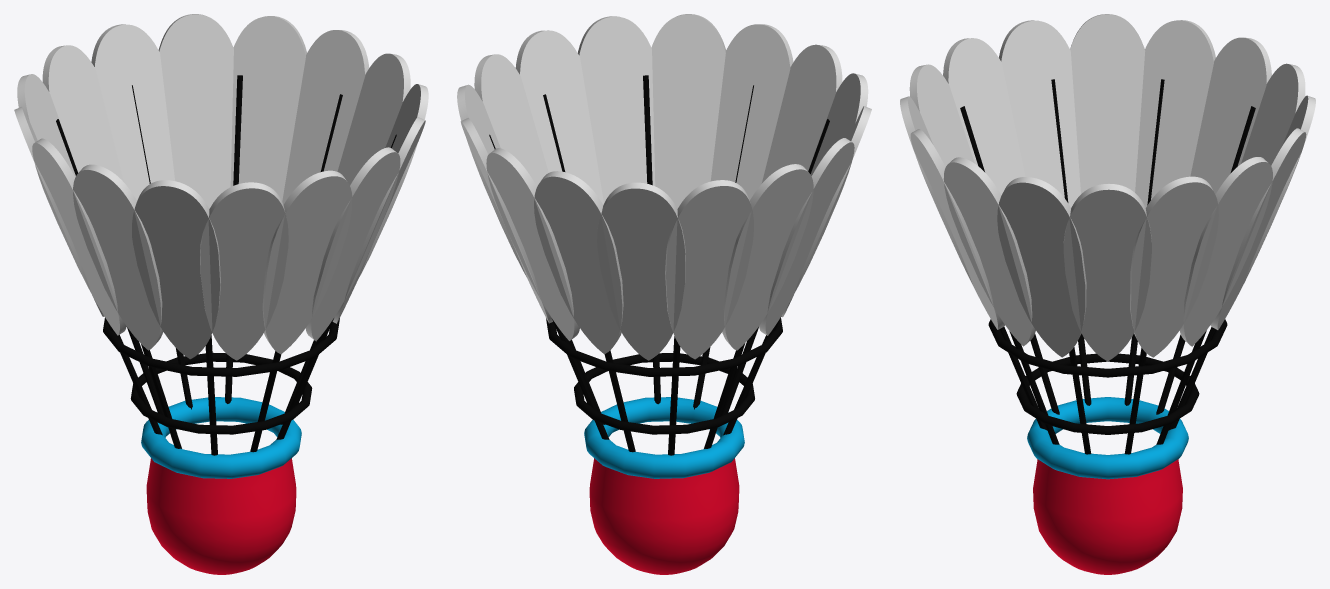
The model's file is Badminton.glb.
3 renders of one model, left to right at view 1: azimuth 30°, elevation 25°; view 2: azimuth 150°, elevation 25°; view 3: azimuth 270°, elevation 25°, orthographic.
Parts seen in each view (by area): view 1: Sphere, Extrude 1, Extrude 9, Extrude 10, Extrude 2, Extrude 0, Extrude 8, Extrude 11, Extrude 3, Torus, Extrude 7, Extrude 15 (+15 smaller); view 2: Sphere, Extrude 7, Extrude 15, Extrude 14, Extrude 6, Extrude 8, Extrude 0, Extrude 13, Extrude 5, Torus, Extrude 1, Extrude 9 (+15 smaller); view 3: Sphere, Extrude 12, Extrude 4, Extrude 13, Extrude 11, Extrude 5, Extrude 3, Extrude 6, Extrude 2, Extrude 10, Extrude 14, Torus (+18 smaller).
Boxes of the visible parts, x1,y1,x2,y2 form: Sphere: (146, 458, 296, 574); Extrude 1: (158, 14, 233, 208); Extrude 9: (200, 182, 288, 360); Extrude 10: (132, 180, 220, 359); Extrude 2: (230, 16, 306, 201); Extrude 0: (91, 24, 175, 200); Extrude 8: (262, 170, 352, 354); Extrude 11: (73, 164, 163, 350); Extrude 3: (282, 30, 369, 204); Torus: (141, 397, 301, 478); Extrude 7: (305, 147, 400, 341); Extrude 15: (42, 45, 123, 181); Sphere: (589, 458, 739, 574); Extrude 7: (651, 14, 726, 208); Extrude 15: (597, 182, 685, 360); Extrude 14: (665, 180, 753, 359); Extrude 6: (578, 16, 655, 203); Extrude 8: (710, 24, 793, 200); Extrude 0: (534, 171, 623, 354); Extrude 13: (722, 164, 813, 350); Extrude 5: (515, 30, 603, 204); Torus: (584, 397, 744, 478); Extrude 1: (486, 148, 579, 340); Extrude 9: (761, 44, 842, 183); Sphere: (1033, 459, 1182, 574); Extrude 12: (1070, 14, 1145, 193); Extrude 4: (1063, 184, 1151, 361); Extrude 13: (1135, 20, 1215, 207); Extrude 11: (999, 20, 1080, 207); Extrude 5: (997, 177, 1086, 357); Extrude 3: (1130, 176, 1218, 357); Extrude 6: (943, 157, 1035, 346); Extrude 2: (1179, 157, 1272, 346); Extrude 10: (943, 38, 1025, 194); Extrude 14: (1190, 37, 1271, 194); Torus: (1027, 397, 1188, 479).
Size of the model in its own units: 0.0505 by 0.0628 by 0.0505.
